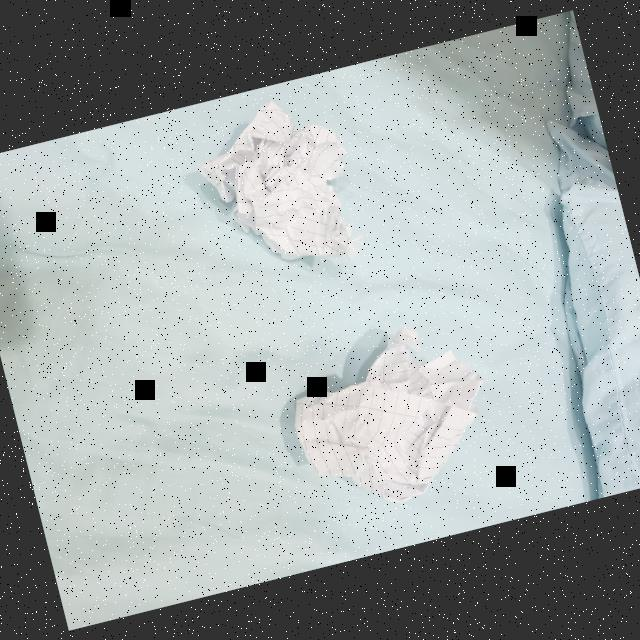scrap_paper: (273, 316, 502, 532), (173, 85, 372, 298)
